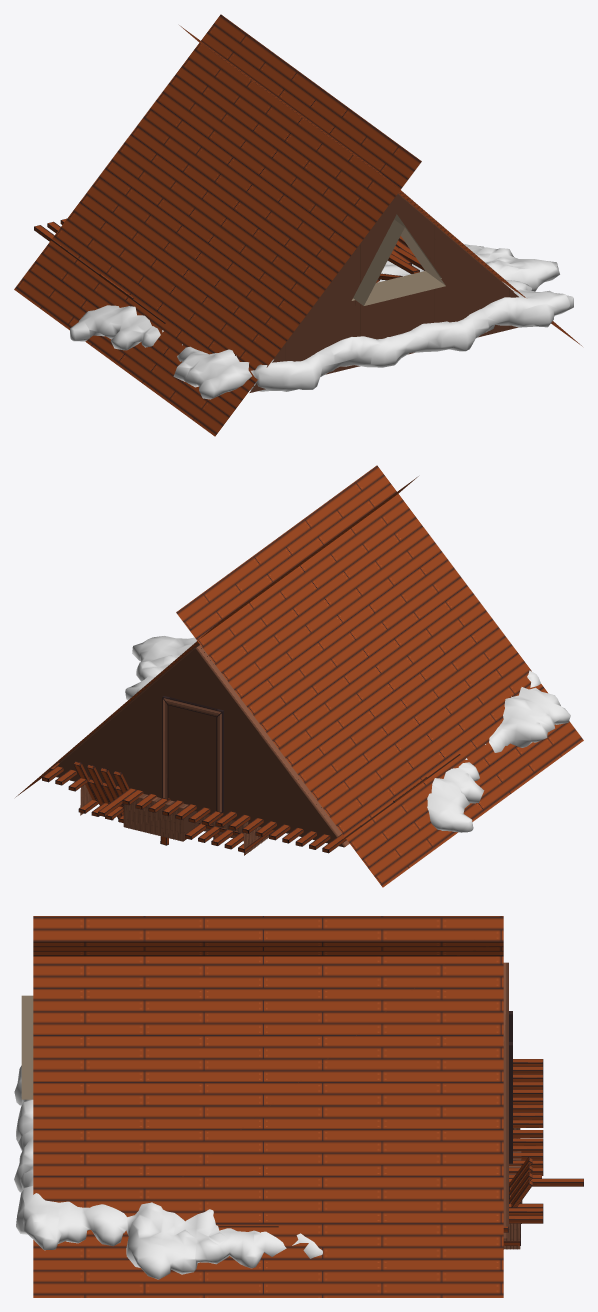
Rendered from Attic.fbx.
3 renders of one model, top to bottom at view 1: azimuth 30°, elevation 25°; view 2: azimuth 150°, elevation 25°; view 3: azimuth 270°, elevation 25°, orthographic. The views are drawn at different scales.
Visible parts, largest first — view 1: Plane.003, Mball, Plane.015, Plane.001, Plane.006; view 2: Plane.003, Plane.001, Mball, Plane, Plane.013, Plane.006; view 3: Plane.006, Mball, Plane.003, Plane.001, Plane.
Boxes of the visible parts, left/top/right/bottom form: Plane.003: left=14, top=14, right=421, bottom=436; Mball: left=70, top=244, right=573, bottom=399; Plane.015: left=249, top=194, right=518, bottom=392; Plane.001: left=253, top=193, right=513, bottom=386; Plane.006: left=179, top=25, right=582, bottom=346; Plane.003: left=176, top=465, right=583, bottom=887; Plane.001: left=56, top=643, right=349, bottom=847; Mball: left=125, top=636, right=570, bottom=832; Plane: left=162, top=696, right=223, bottom=812; Plane.013: left=123, top=794, right=199, bottom=841; Plane.006: left=15, top=476, right=418, bottom=797; Plane.006: left=33, top=916, right=503, bottom=1297; Mball: left=14, top=1065, right=322, bottom=1279; Plane.003: left=33, top=941, right=503, bottom=956; Plane.001: left=21, top=962, right=508, bottom=1238; Plane: left=509, top=1011, right=512, bottom=1163.
Size of the model in its own units: 13683 by 7840 by 13936.
